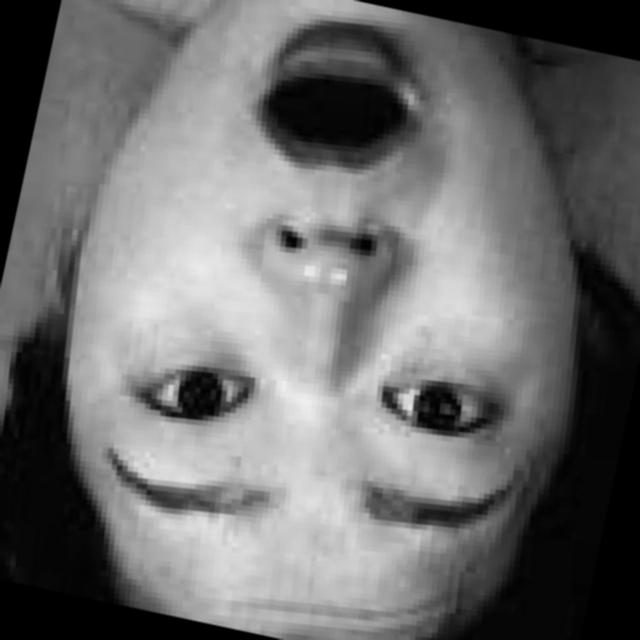surprise: (5, 0, 619, 640)
